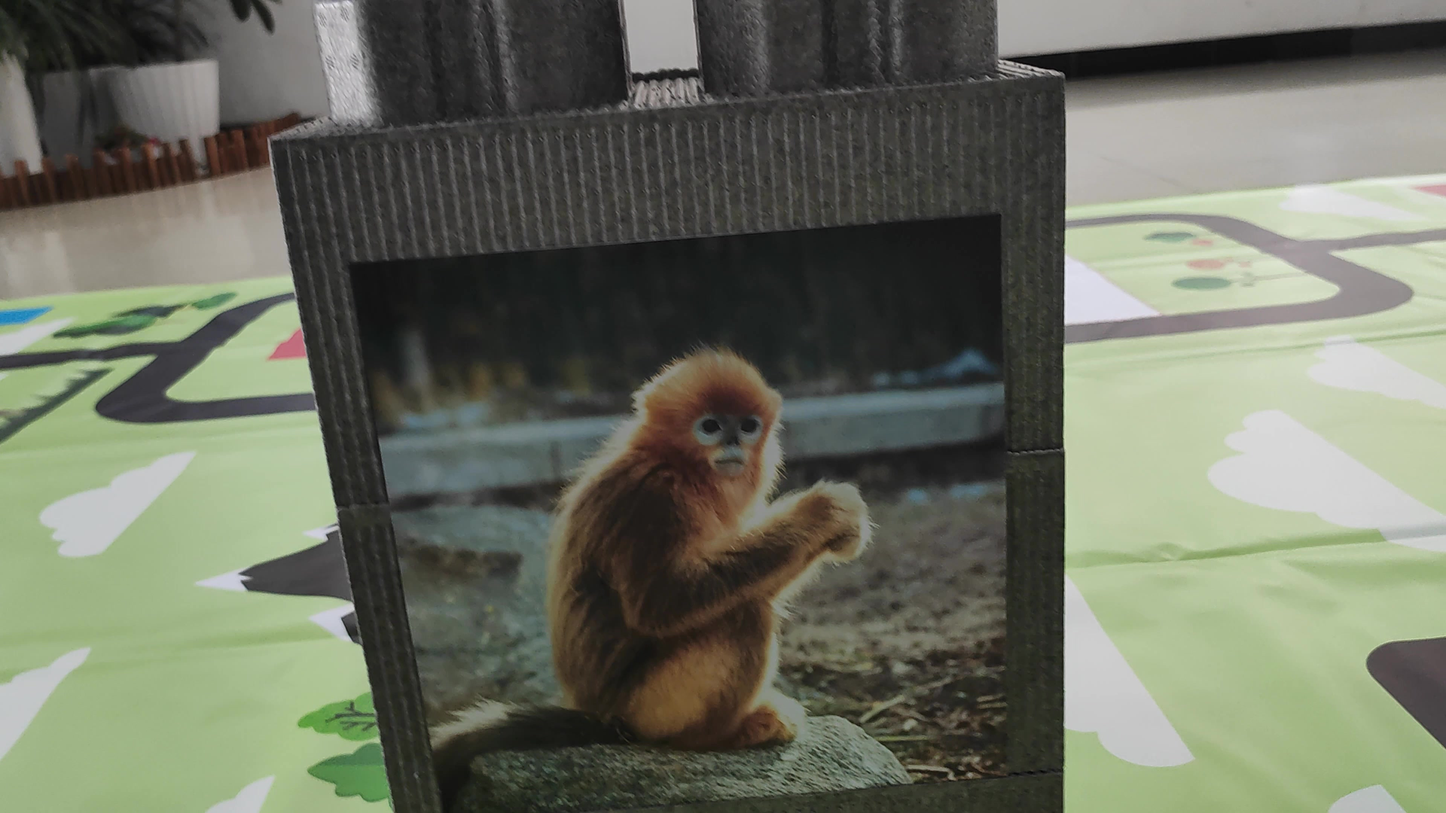monkey: (409, 290, 923, 782)
